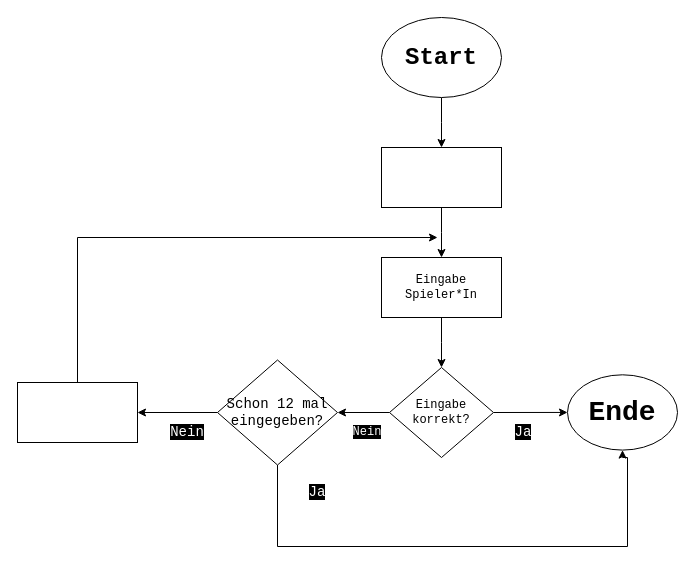
Some shapes in this 695 by 572 pixel diagram are drawn without their labels. Here are the shapes that lost their labels. From the top down, the centre of each, then its label:
point 441,177: Farbkombination des Programmes
point 77,412: Info Programm (wie viele richtig)
